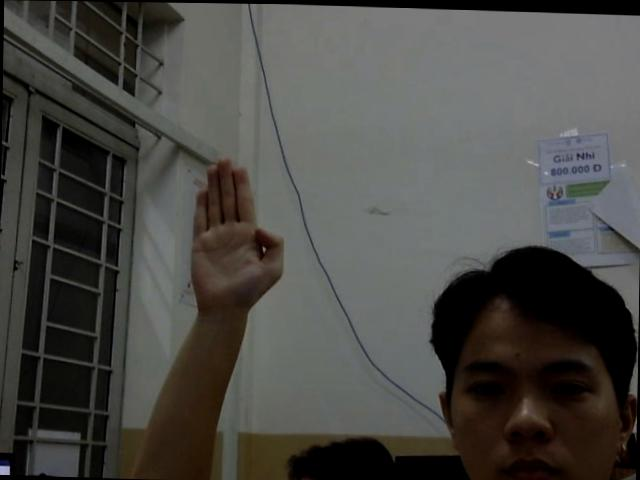B: (178, 156, 290, 302)
